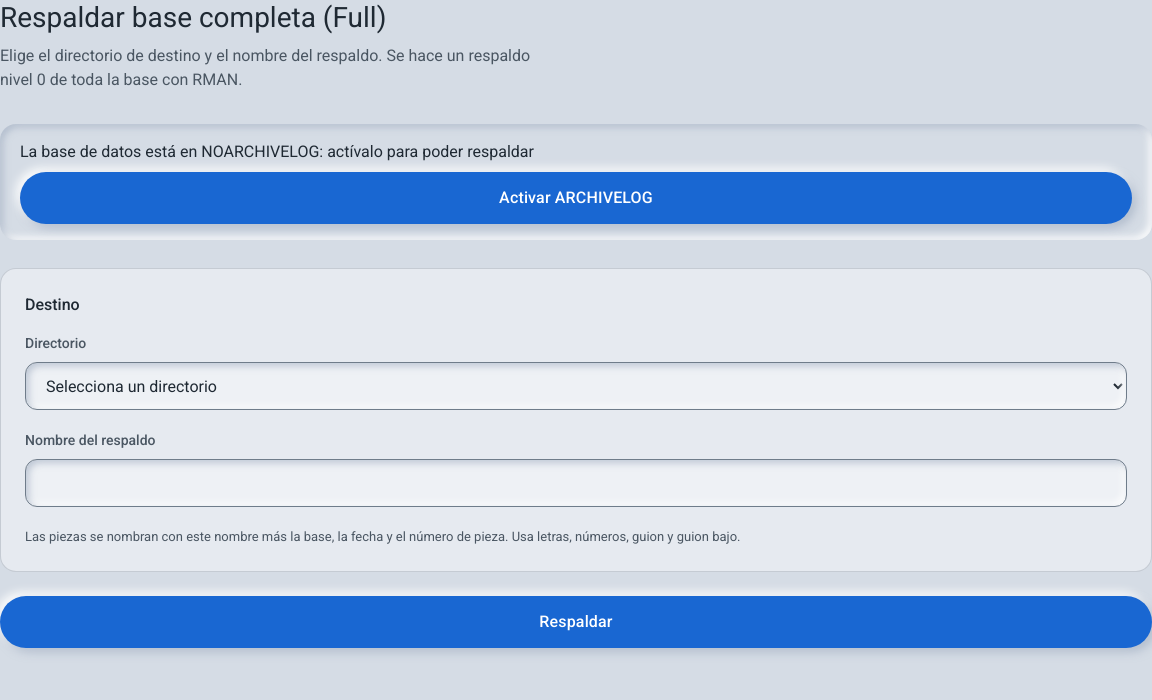
Test case: activar ARCHIVELOG › al confirmar lo activa y pide iniciar sesión de nuevo
Click the button "Activar ARCHIVELOG". click: x=576, y=198
box: x1=20 y1=172 x2=1132 y2=224
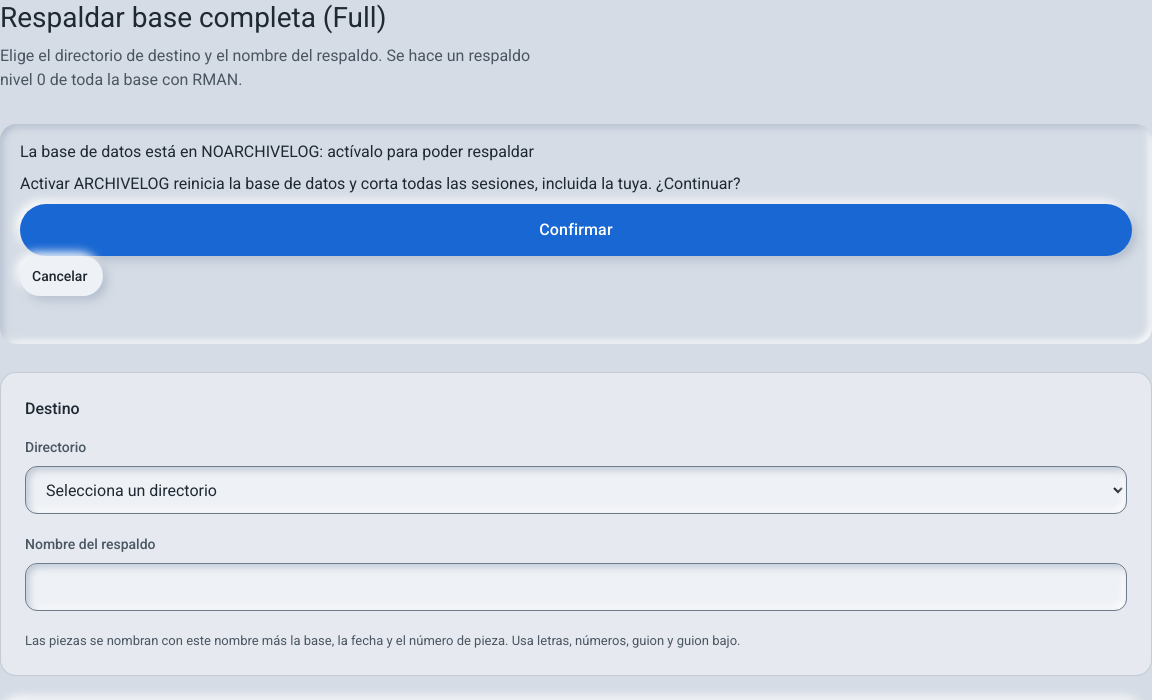
Click the button "Confirmar". click: x=576, y=230
box: x1=20 y1=204 x2=1132 y2=256
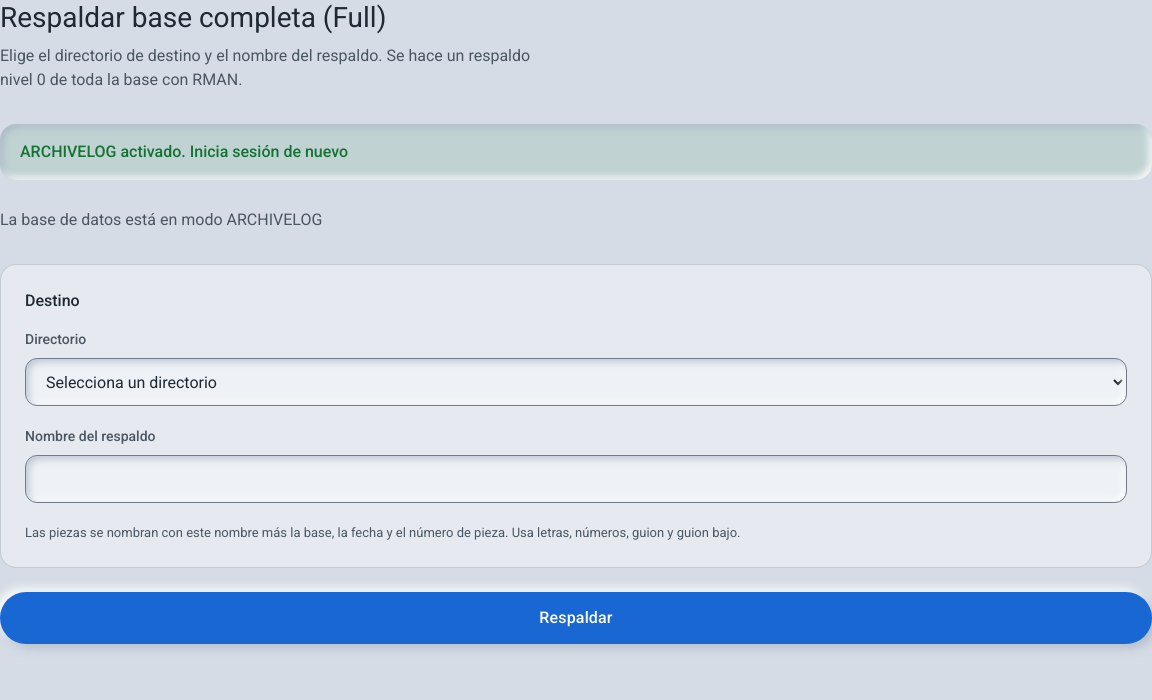
Result: the message reads "ARCHIVELOG activado. Inicia sesión de nuevo" at x1=20 y1=142 x2=348 y2=161
Result: the text "Activar ARCHIVELOG" is gone
